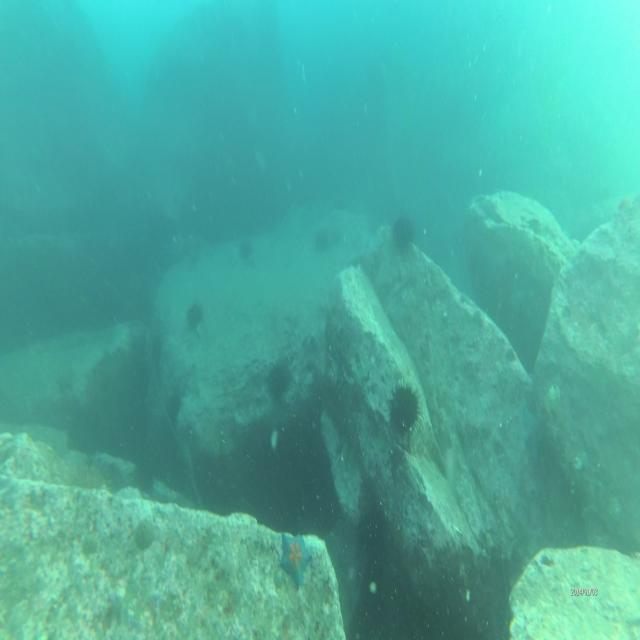echinus: (386, 376, 425, 453), (262, 358, 292, 404), (391, 212, 417, 256)
starfish: (278, 526, 314, 592)
